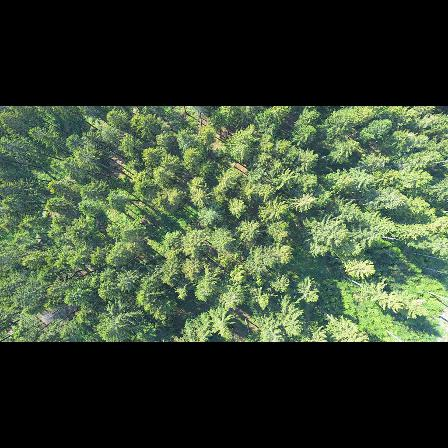Dead: (37, 309, 63, 325)
